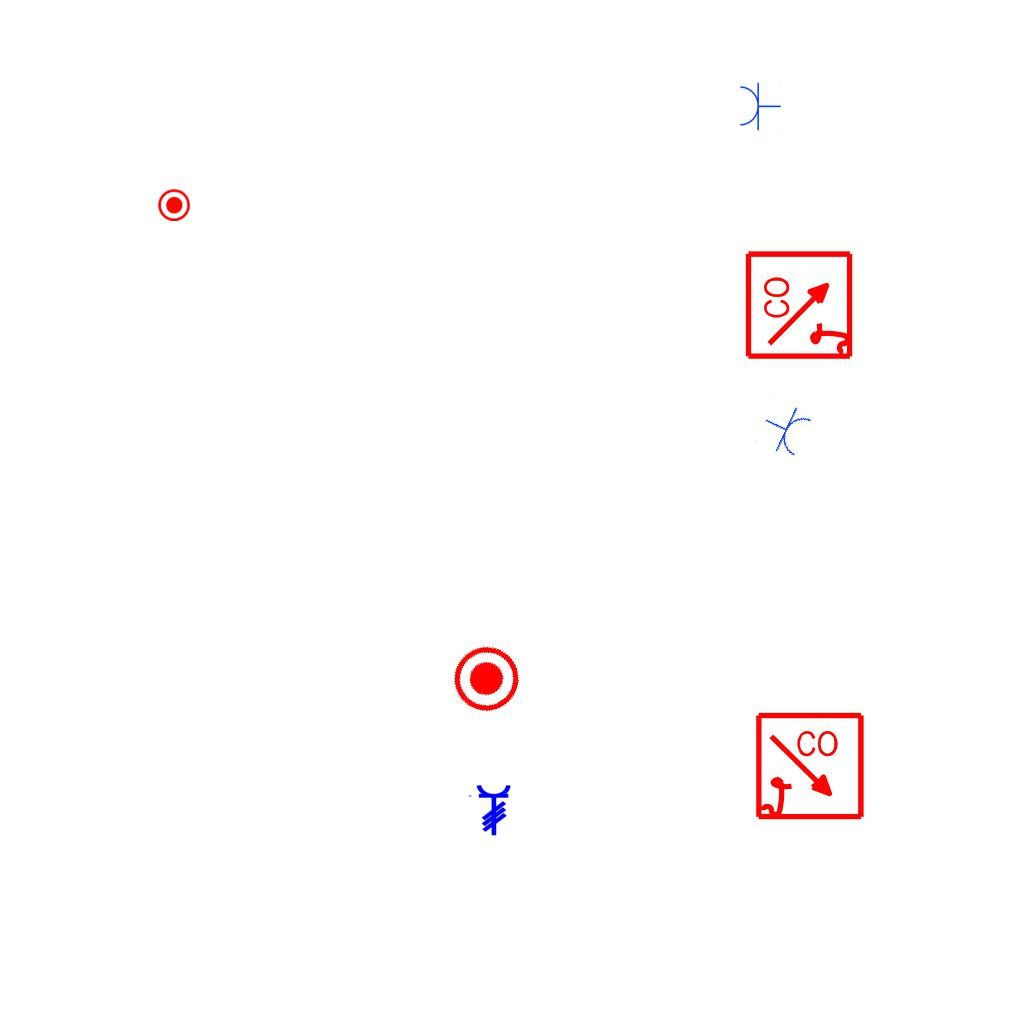CEE_Drehstrom_Steckdose_16_32_A: (467, 784, 512, 836)
ROA_Rauchmelder_optisch_mit_Signalgeber_(Sockelsirene): (744, 248, 857, 361), (754, 711, 867, 824)
Schukosteckdose_einfach: (754, 397, 816, 462), (738, 81, 781, 131)
Taster: (439, 633, 531, 725), (158, 188, 191, 221)
